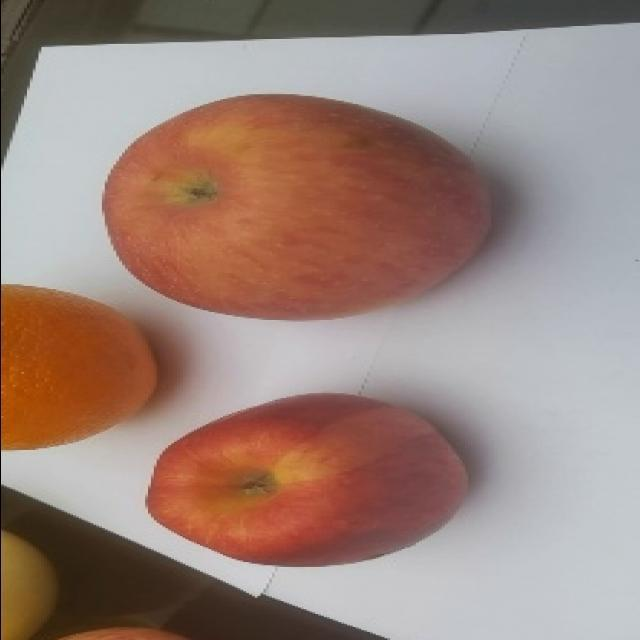Apple: (98, 91, 497, 328), (144, 390, 472, 568), (58, 623, 194, 640)
Orange: (0, 283, 156, 453)
